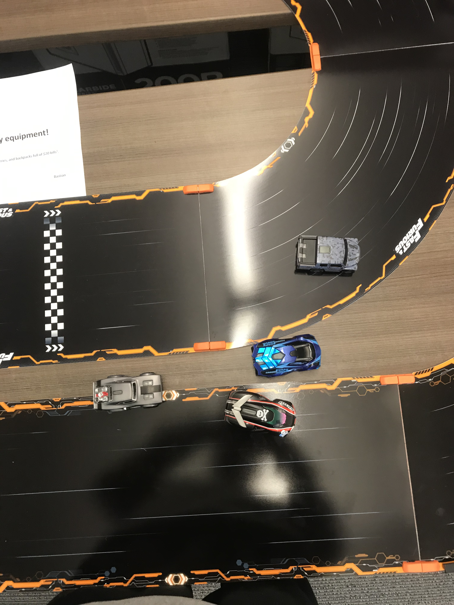Charger: (91, 372, 166, 414)
Finish Line: (42, 208, 66, 352)
MXT: (295, 233, 360, 276)
Shock: (252, 333, 324, 376)
Skull: (224, 387, 297, 438)
